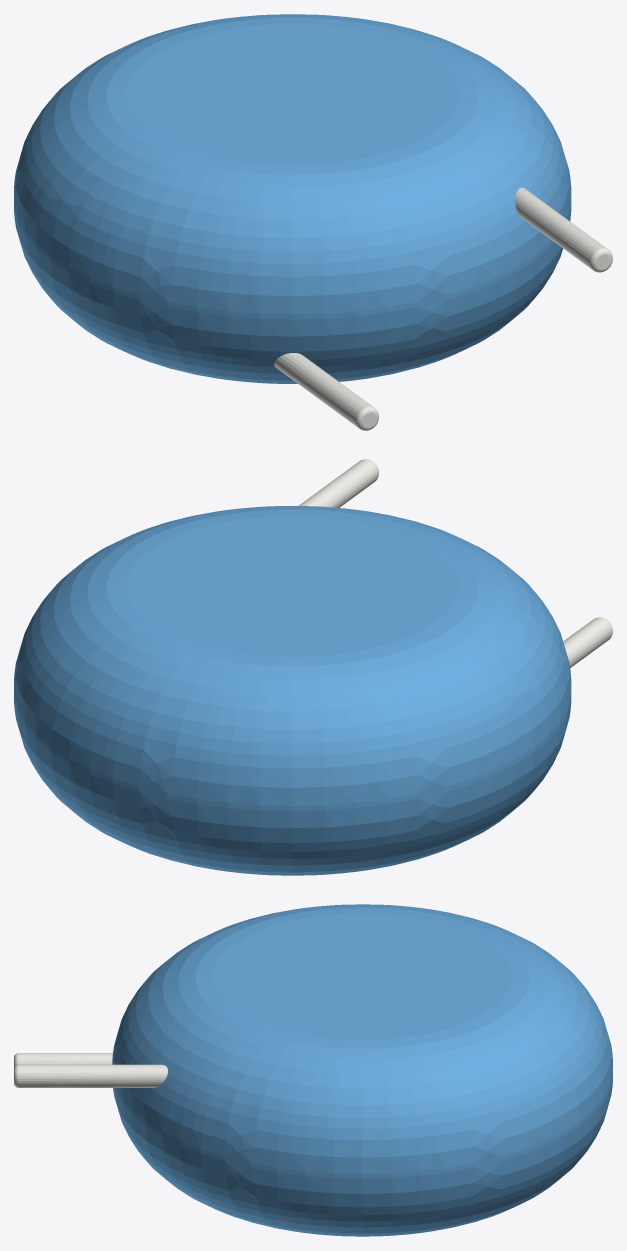
Rendered from RV_Disc_D15.5mm_W6.4mm_P7.5mm.glb.
The picture shows the model from 3 angles, top to bottom: view 1: azimuth 30°, elevation 25°; view 2: azimuth 150°, elevation 25°; view 3: azimuth 270°, elevation 25°; orthographic projection. The views are drawn at different scales.
Visible parts, largest first — view 1: Shape_IndexedFaceSet.001, Shape_IndexedFaceSet.003, Shape_IndexedFaceSet.002, Shape_IndexedFaceSet, Shape_IndexedFaceSet.004, Shape_IndexedFaceSet.006; view 2: Shape_IndexedFaceSet.001, Shape_IndexedFaceSet.003, Shape_IndexedFaceSet.002, Shape_IndexedFaceSet, Shape_IndexedFaceSet.004, Shape_IndexedFaceSet.006; view 3: Shape_IndexedFaceSet.001, Shape_IndexedFaceSet.003, Shape_IndexedFaceSet.002, Shape_IndexedFaceSet.004, Shape_IndexedFaceSet, Shape_IndexedFaceSet.006.
Boxes of the visible parts, box(x1,y1,x2,y2) form: Shape_IndexedFaceSet.001: box(14, 14, 571, 314); Shape_IndexedFaceSet.003: box(126, 24, 458, 164); Shape_IndexedFaceSet.002: box(14, 209, 571, 383); Shape_IndexedFaceSet: box(14, 204, 571, 319); Shape_IndexedFaceSet.004: box(515, 187, 606, 269); Shape_IndexedFaceSet.006: box(274, 353, 372, 427); Shape_IndexedFaceSet.001: box(14, 506, 571, 806); Shape_IndexedFaceSet.003: box(126, 516, 458, 656); Shape_IndexedFaceSet.002: box(14, 700, 571, 875); Shape_IndexedFaceSet: box(14, 695, 571, 811); Shape_IndexedFaceSet.004: box(299, 459, 378, 507); Shape_IndexedFaceSet.006: box(563, 617, 612, 667); Shape_IndexedFaceSet.001: box(112, 904, 612, 1174); Shape_IndexedFaceSet.003: box(213, 913, 511, 1039); Shape_IndexedFaceSet.002: box(113, 1080, 612, 1236); Shape_IndexedFaceSet.004: box(18, 1064, 167, 1087); Shape_IndexedFaceSet: box(115, 1075, 612, 1178); Shape_IndexedFaceSet.006: box(18, 1053, 112, 1064).
Bounding box in the file's own units: 6.1 × 2.52 × 7.29.
